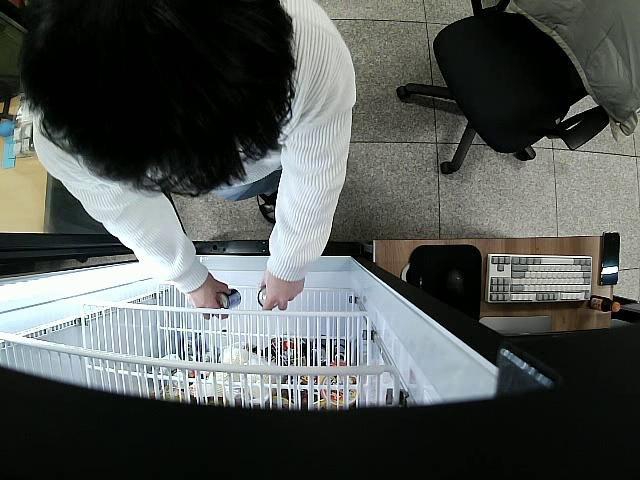00_hand: (189, 274, 229, 319), (261, 269, 305, 309)
16_hot6: (256, 284, 277, 310), (217, 287, 241, 309)
